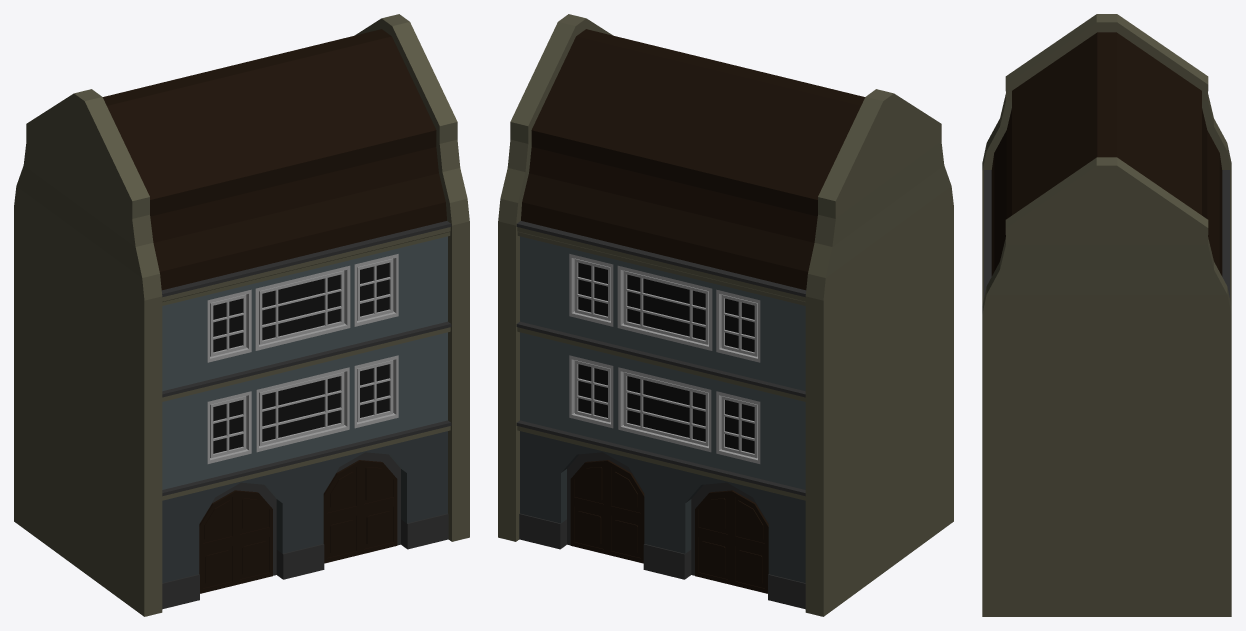
Rendered from Building2_Small.fbx.
3 views of the same model, side by side, from view 1: azimuth 30°, elevation 25°; view 2: azimuth 150°, elevation 25°; view 3: azimuth 270°, elevation 25° (orthographic). The views are drawn at different scales.
Parts seen in each view (by area): view 1: Building2_Small; view 2: Building2_Small; view 3: Building2_Small.
Part boxes in pixels (x1=…): Building2_Small: x1=14, y1=14, x2=469, y2=616; Building2_Small: x1=498, y1=14, x2=953, y2=616; Building2_Small: x1=982, y1=14, x2=1231, y2=616.
Bounding box in the file's own units: 3.58 × 4.97 × 2.49.
